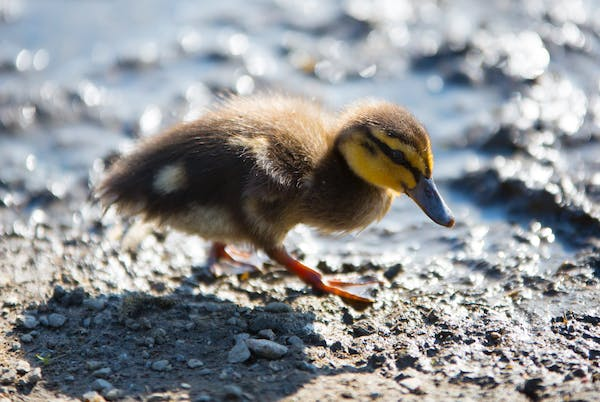Walking: (81, 87, 480, 332)
